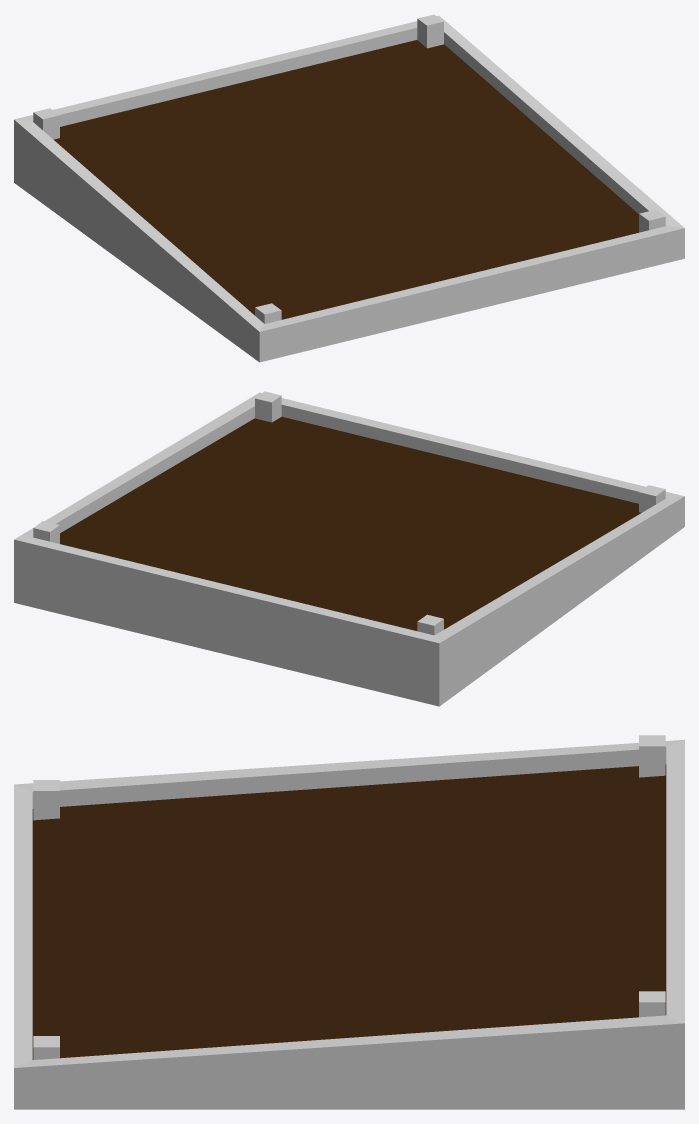
File: crop farm.fbx
The picture shows the model from 3 angles, top to bottom: view 1: azimuth 30°, elevation 25°; view 2: azimuth 150°, elevation 25°; view 3: azimuth 270°, elevation 25°; orthographic projection. The views are drawn at different scales.
Visible parts, largest first — view 1: Cube.002; view 2: Cube.002; view 3: Cube.002.
Part boxes in pixels (<box>): Cube.002: <box>14,14,684,362</box>; Cube.002: <box>14,391,684,706</box>; Cube.002: <box>14,735,684,1109</box>.
Size of the model in its own units: 506 by 82.49 by 506.
